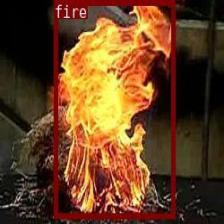fire: (53, 0, 174, 217)
